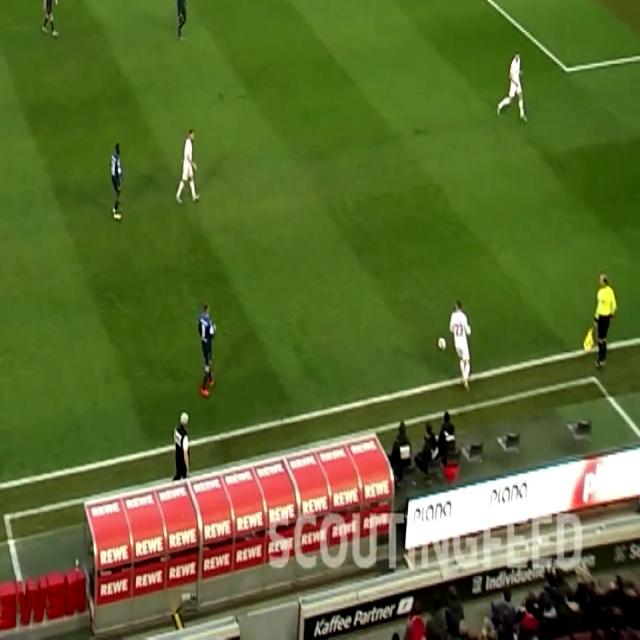ball: (435, 330, 447, 354)
goalkeeper: (0, 566, 64, 639), (0, 569, 31, 639), (388, 603, 443, 640)
referee: (578, 267, 630, 377)
soccer-player: (188, 295, 229, 404), (96, 140, 134, 233), (173, 119, 211, 208), (492, 47, 532, 131), (450, 294, 474, 388), (197, 611, 256, 640), (169, 0, 201, 44), (36, 0, 67, 45)
